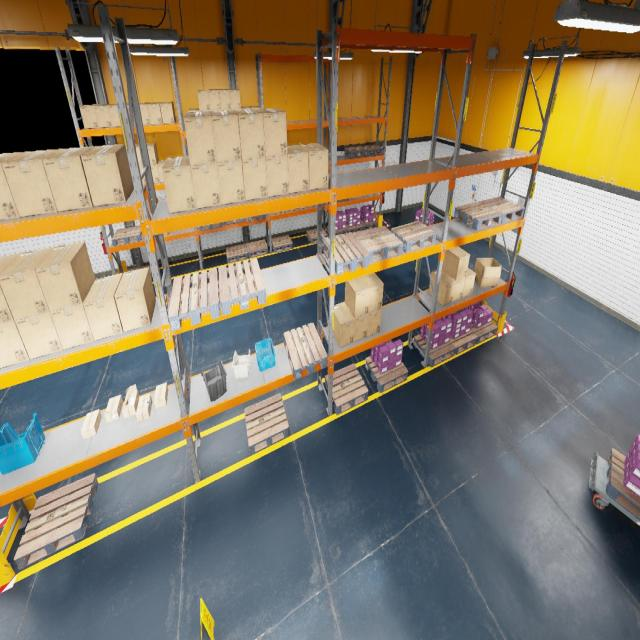box: (35, 241, 95, 311), (1, 149, 61, 217), (0, 247, 53, 320), (42, 146, 94, 212), (80, 144, 134, 206), (114, 267, 156, 332), (83, 273, 123, 341), (15, 312, 62, 359), (50, 304, 94, 349), (162, 156, 196, 213), (0, 152, 26, 220), (184, 111, 216, 166), (211, 110, 241, 162), (235, 109, 265, 159), (0, 253, 21, 324), (190, 162, 222, 208), (0, 320, 30, 368), (258, 108, 287, 156), (300, 143, 328, 190), (217, 160, 245, 204), (242, 157, 268, 200), (287, 145, 309, 193), (345, 276, 370, 318), (428, 269, 456, 306), (266, 154, 288, 197), (442, 247, 470, 280), (345, 302, 368, 342), (334, 302, 354, 347), (362, 272, 383, 313), (474, 258, 502, 287), (442, 269, 466, 302), (81, 410, 101, 439), (122, 384, 139, 418), (104, 394, 122, 422), (136, 393, 152, 422), (80, 104, 98, 129), (367, 308, 382, 337), (462, 268, 476, 298), (94, 104, 112, 127), (154, 382, 168, 408), (160, 102, 176, 124), (147, 102, 163, 124), (108, 104, 121, 127), (146, 143, 158, 165), (218, 89, 231, 109), (197, 90, 210, 110), (228, 89, 241, 108), (139, 103, 150, 125), (208, 90, 220, 110), (157, 160, 165, 183), (126, 103, 134, 126), (150, 165, 160, 183), (135, 144, 143, 166), (139, 166, 146, 185), (154, 232, 170, 235), (241, 106, 251, 110), (189, 108, 199, 112), (250, 106, 260, 109), (274, 211, 282, 214)
pallets: (14, 473, 98, 569), (168, 268, 220, 331), (244, 393, 289, 455), (218, 258, 266, 315), (284, 322, 327, 380), (606, 448, 640, 520), (325, 363, 368, 415), (322, 232, 370, 275), (352, 226, 402, 262), (365, 356, 408, 393), (391, 221, 436, 252), (454, 202, 502, 231), (413, 334, 455, 367), (478, 197, 525, 223), (447, 330, 478, 355), (468, 321, 498, 344), (111, 225, 143, 246), (226, 244, 248, 263), (246, 239, 268, 258), (271, 235, 293, 252), (306, 228, 328, 244), (127, 265, 152, 279), (344, 146, 367, 157), (360, 145, 383, 155), (327, 226, 348, 236), (199, 222, 222, 231), (360, 219, 378, 230), (223, 218, 246, 225), (346, 224, 363, 233), (248, 214, 266, 222), (337, 198, 348, 202)
